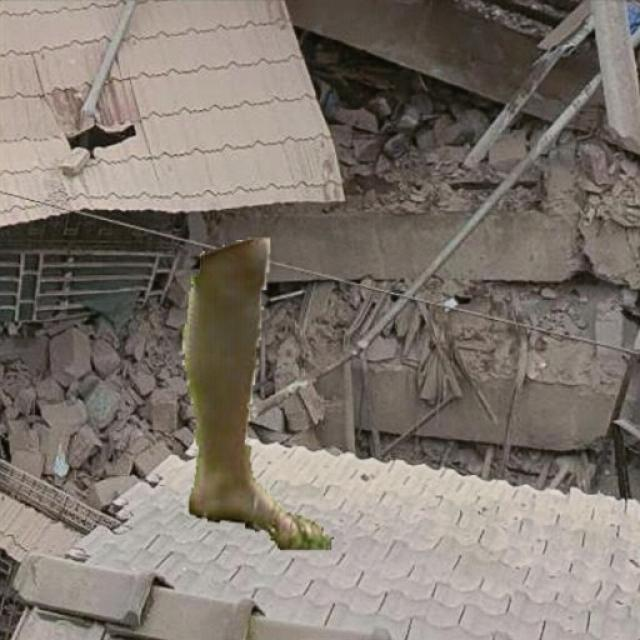Person in Rubble: (182, 237, 332, 548)
